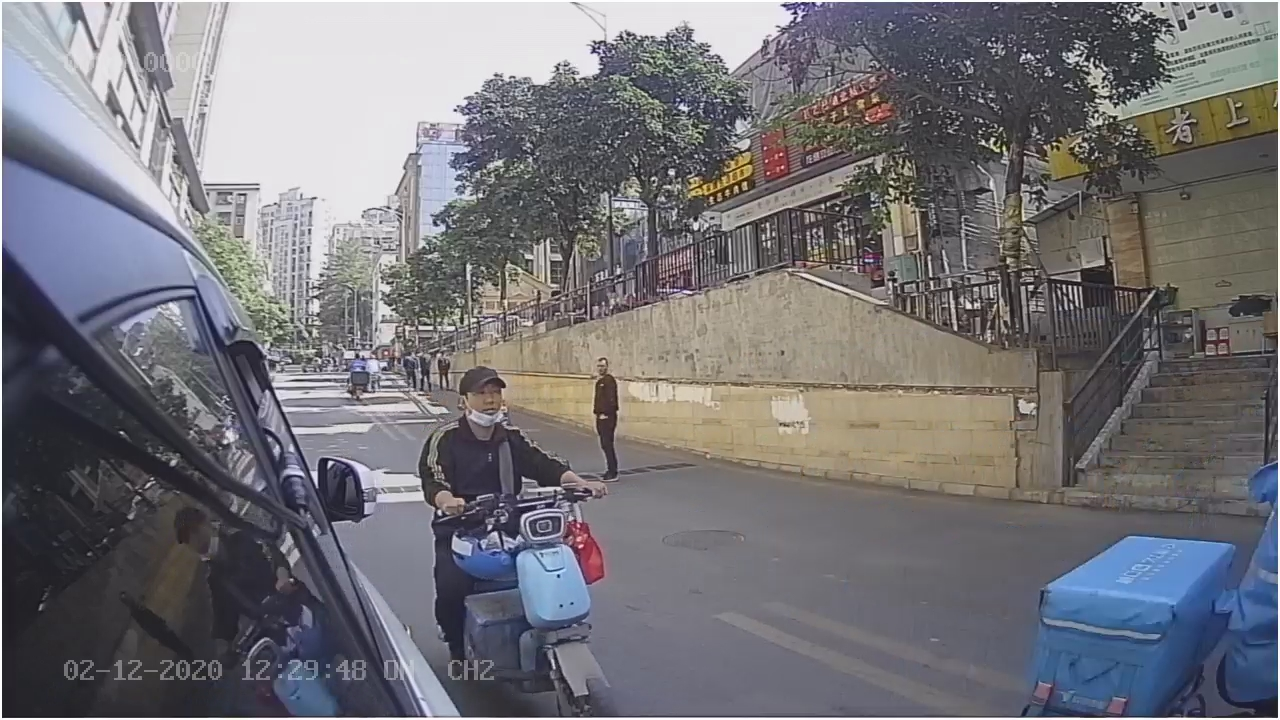person: (415, 364, 568, 514)
